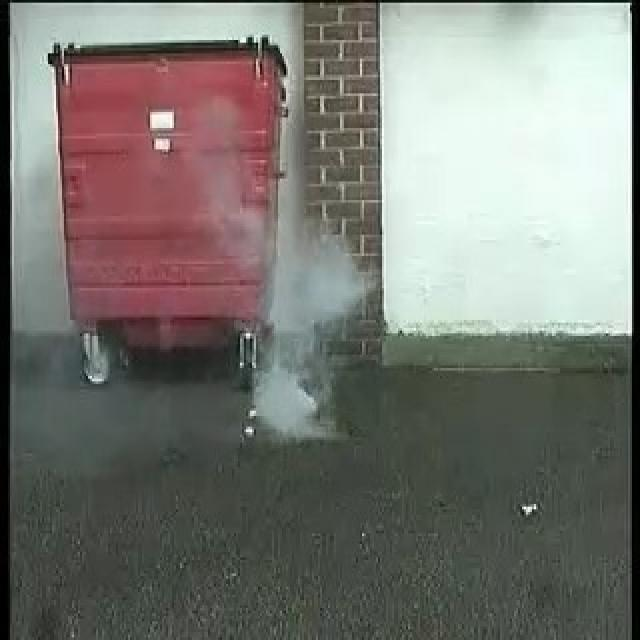smoke: (252, 240, 358, 440)
